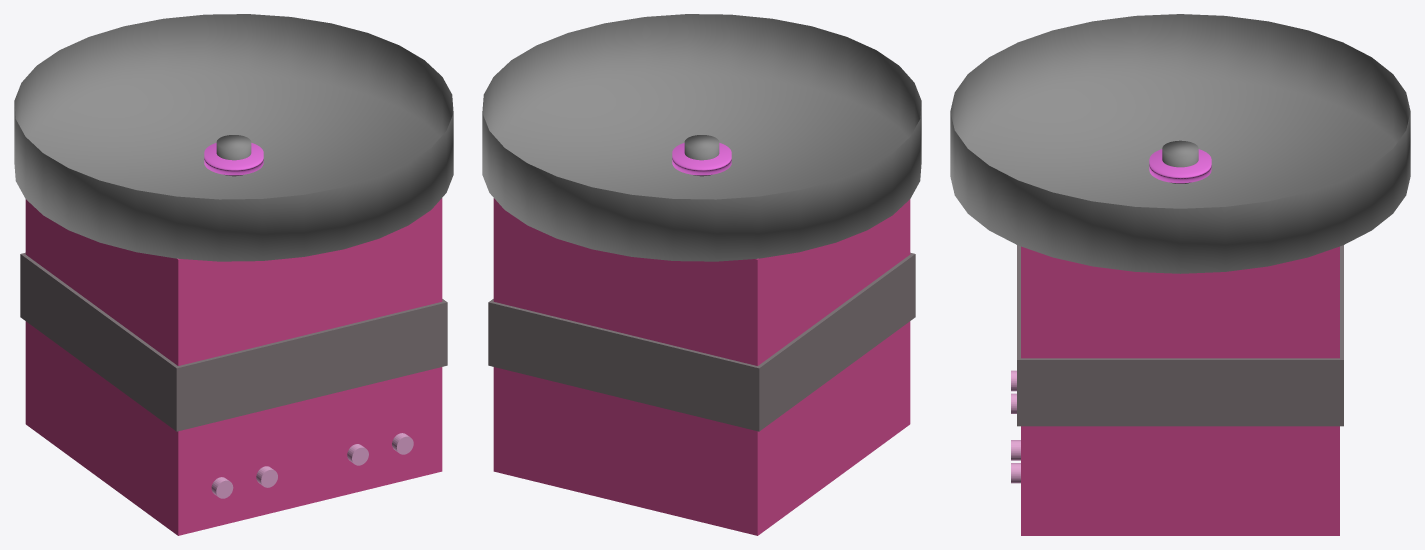
File: device.fbx
The picture shows the model from 3 angles, left to right: view 1: azimuth 30°, elevation 25°; view 2: azimuth 150°, elevation 25°; view 3: azimuth 270°, elevation 25°; orthographic projection. The views are drawn at different scales.
Visible parts, largest first — view 1: Cylinder, Cube, Cube.001, Cube.002, Cylinder.002, Cylinder.001; view 2: Cylinder, Cube, Cube.001, Cylinder.002, Cylinder.001; view 3: Cylinder, Cube, Cube.001, Cylinder.002, Cylinder.001, Cube.002.
Part boxes in pixels (x1,y1,x2,y2): Cylinder: [14, 14, 453, 261]; Cube: [25, 198, 442, 535]; Cube.001: [20, 252, 447, 431]; Cube.002: [211, 433, 413, 498]; Cylinder.002: [204, 143, 263, 175]; Cylinder.001: [216, 135, 251, 176]; Cylinder: [482, 14, 921, 261]; Cube: [493, 198, 910, 535]; Cube.001: [488, 252, 915, 431]; Cylinder.002: [672, 143, 731, 175]; Cylinder.001: [684, 135, 719, 176]; Cylinder: [950, 14, 1410, 273]; Cube: [1021, 246, 1339, 535]; Cube.001: [1017, 245, 1343, 426]; Cylinder.002: [1149, 149, 1211, 183]; Cylinder.001: [1162, 140, 1198, 183]; Cube.002: [1011, 370, 1020, 483].
Bounding box in the file's own units: 289 × 247 × 288.
